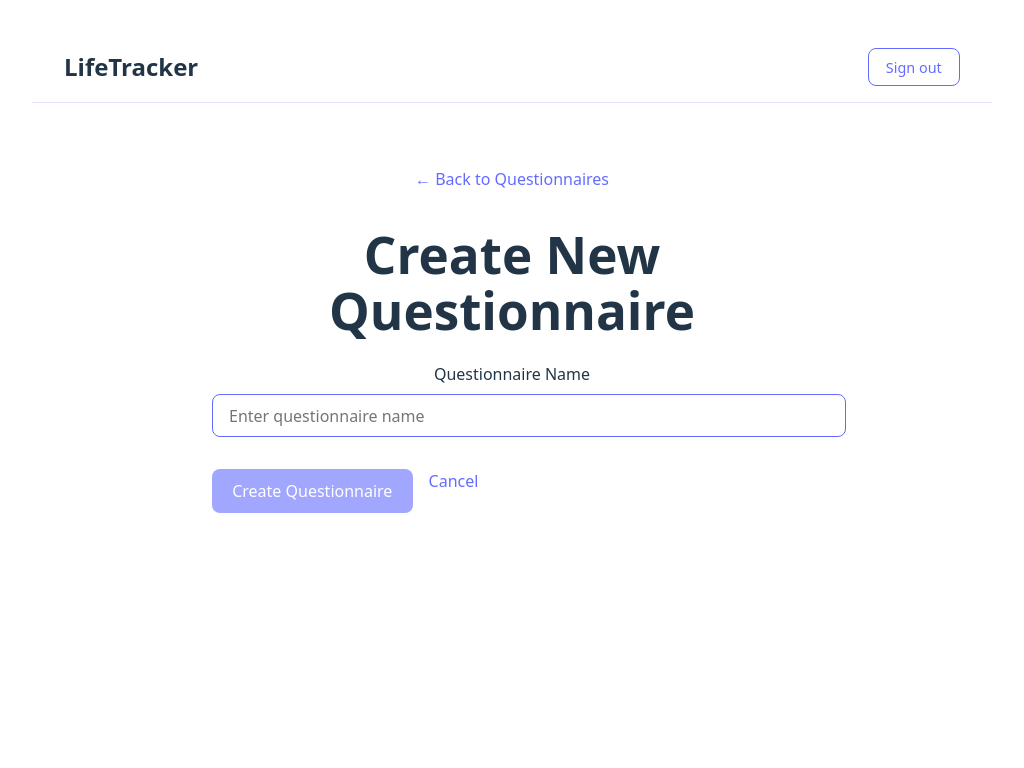
Test: QuestionnaireCreate › displays generic error message when API throws non-Error
Type "My Test Questionnaire" into the field labelled "Questionnaire Name" at (529, 416), box top-left (212, 394), bottom-right (846, 437)
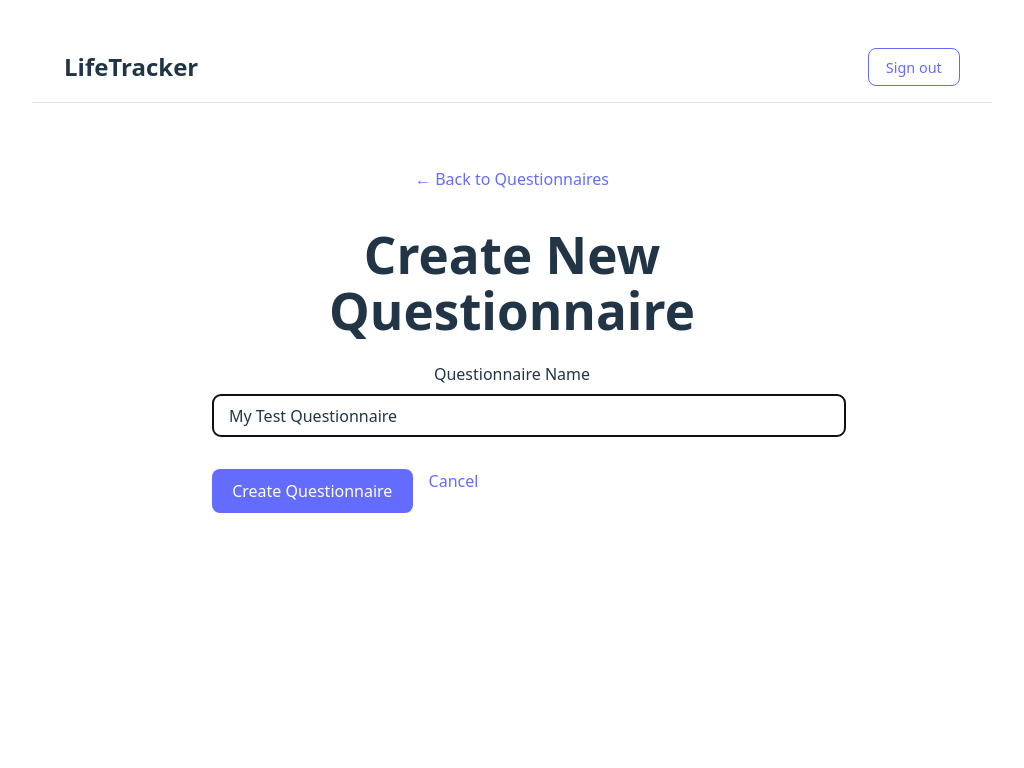
Click the button "Create Questionnaire" at (312, 491), box top-left (212, 469), bottom-right (413, 513)
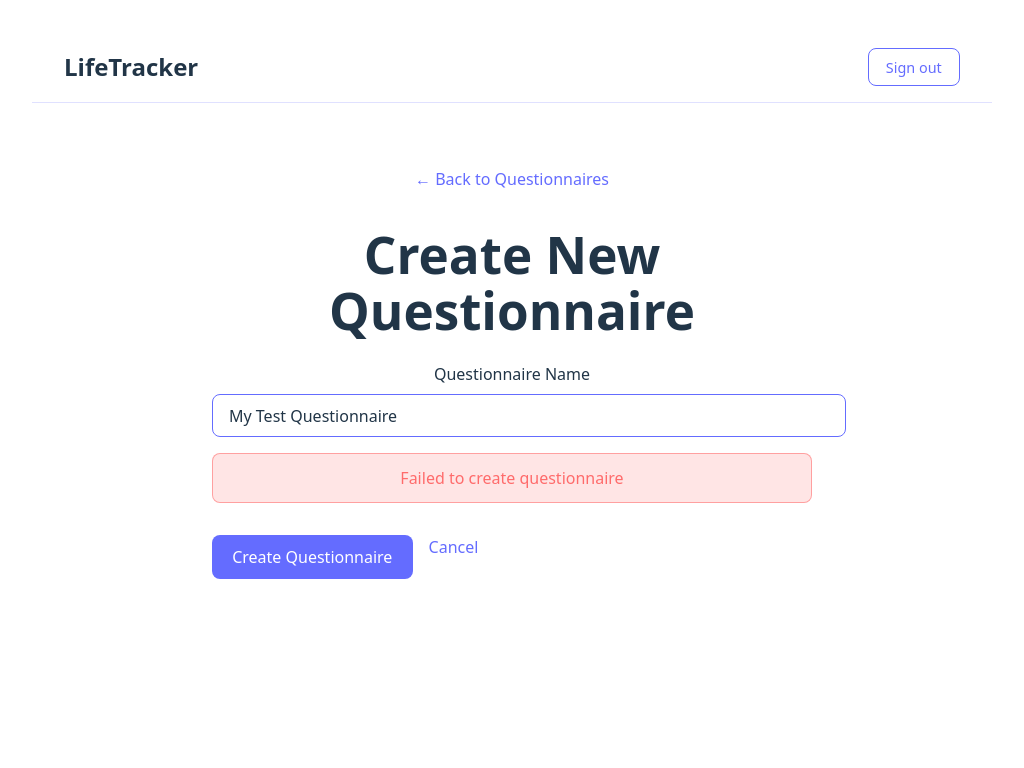
Now the text "Failed to create questionnaire" is shown, box top-left (212, 453), bottom-right (812, 503)
